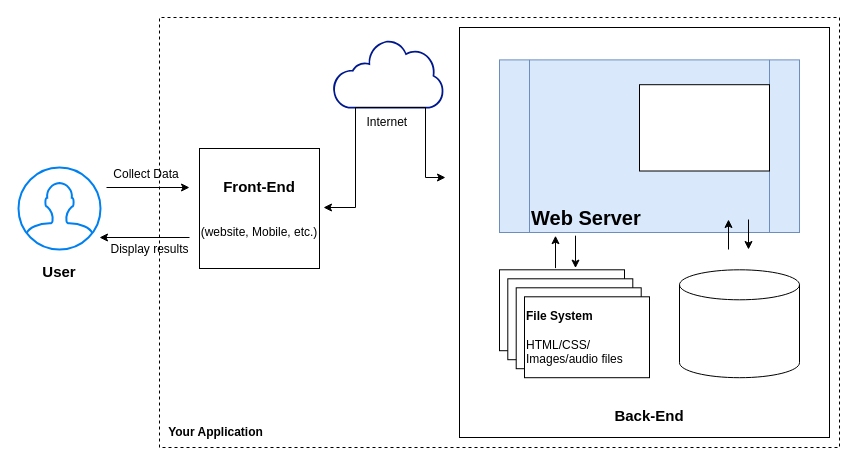
Some shapes in this 858 by 466 pixel diagram are drawn without their labels. The box of each missing label's shape, as (x1, y1, x2, y2) in pixels:
Application Logic JavaScript/PHP/ Python: (638, 84, 770, 171)
DataBase MySQL/Oracle MongoDB/etc..: (678, 269, 800, 378)
